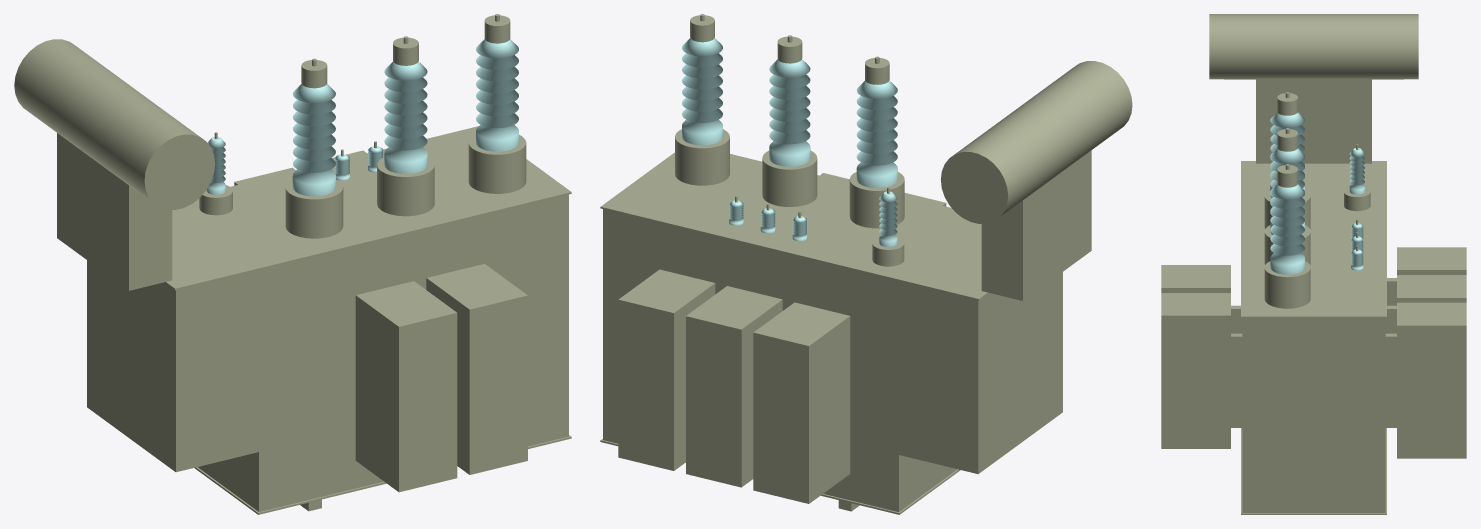
Rendered from ТМН 6300-110-У1.fbx.
3 views of the same model, side by side, from view 1: azimuth 30°, elevation 25°; view 2: azimuth 150°, elevation 25°; view 3: azimuth 270°, elevation 25° (orthographic). The views are drawn at different scales.
Parts seen in each view (by area): view 1: ТМН 6300-110-У1; view 2: ТМН 6300-110-У1; view 3: ТМН 6300-110-У1.
Part boxes in pixels (x1=…): ТМН 6300-110-У1: x1=14, y1=14, x2=571, y2=514; ТМН 6300-110-У1: x1=600, y1=14, x2=1132, y2=514; ТМН 6300-110-У1: x1=1161, y1=14, x2=1466, y2=514.
Size of the model in its own units: 5370 by 4897 by 3950.
